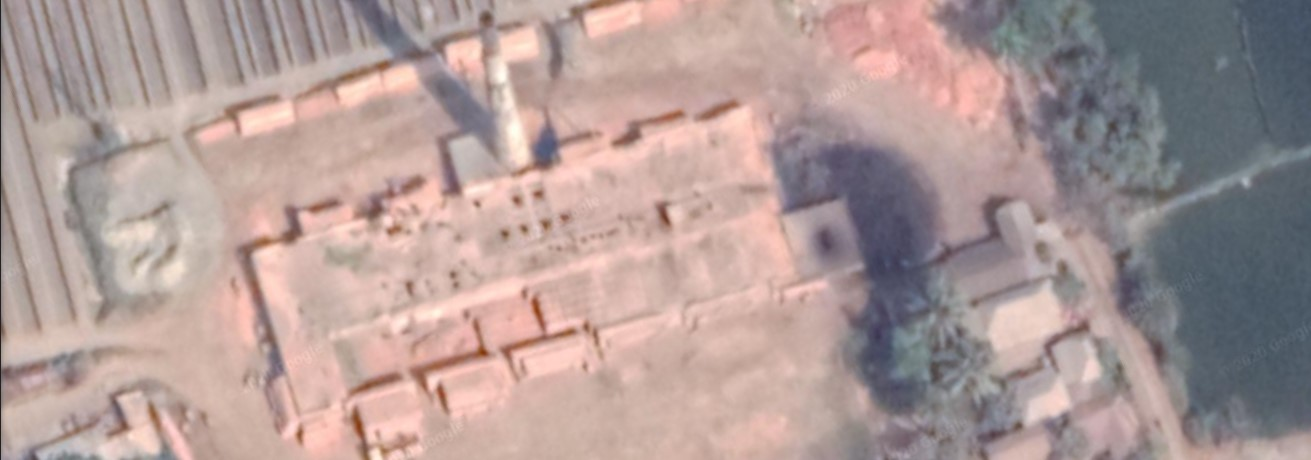kiln: (196, 3, 880, 419)
